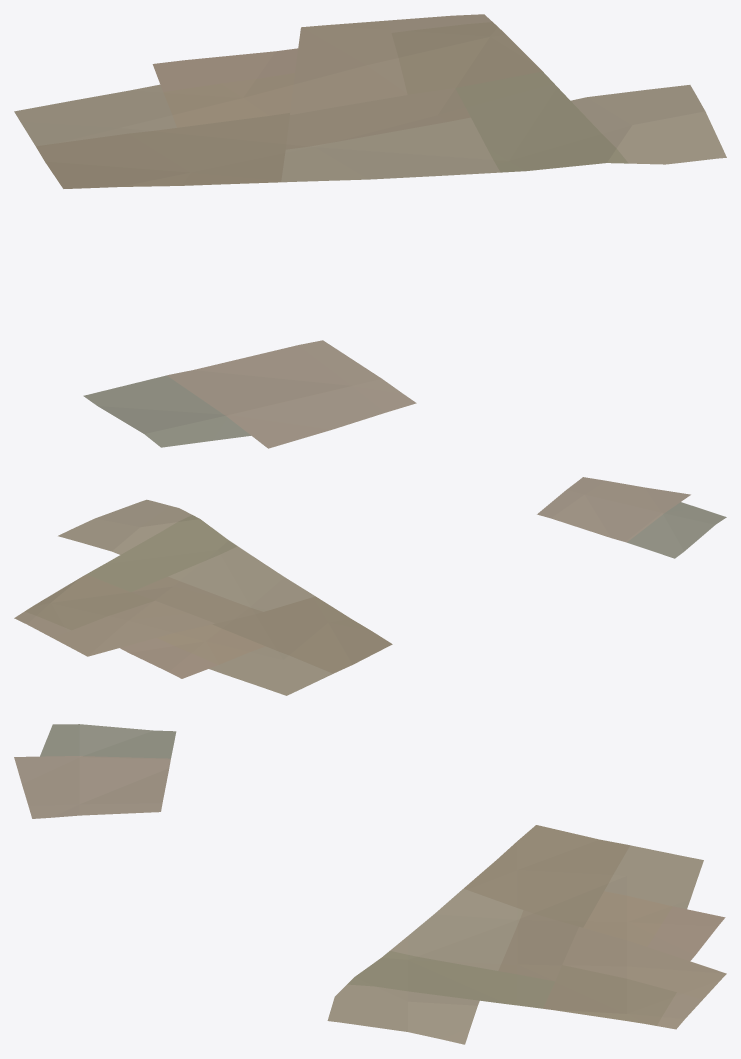
File: farm_28_17_soil.glb
3 renders of one model, top to bottom at view 1: azimuth 30°, elevation 25°; view 2: azimuth 150°, elevation 25°; view 3: azimuth 270°, elevation 25°, orthographic. The views are drawn at different scales.
Parts seen in each view (by area): view 1: geometry_0; view 2: geometry_0; view 3: geometry_0.
Boxes of the visible parts, x1,y1,x2,y2 form: geometry_0: (14, 14, 726, 448); geometry_0: (14, 477, 726, 695); geometry_0: (14, 724, 726, 1044).
Bounding box in the file's own units: 517 × 26.46 × 521.
